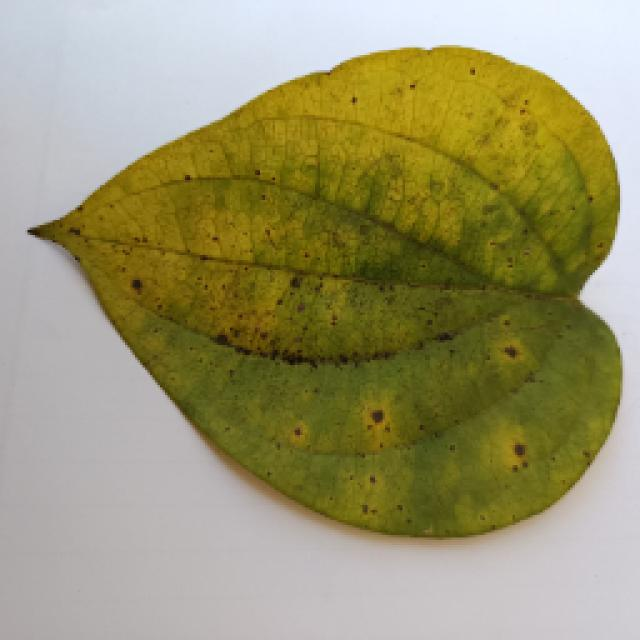slow-decline: (15, 68, 610, 550)
